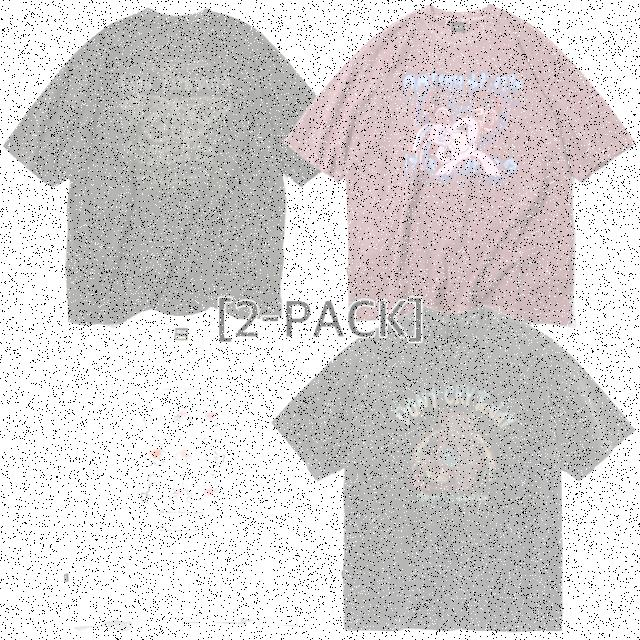Blouse_deep: (283, 294, 635, 630), (0, 6, 352, 317), (278, 7, 628, 316), (16, 302, 335, 626)
